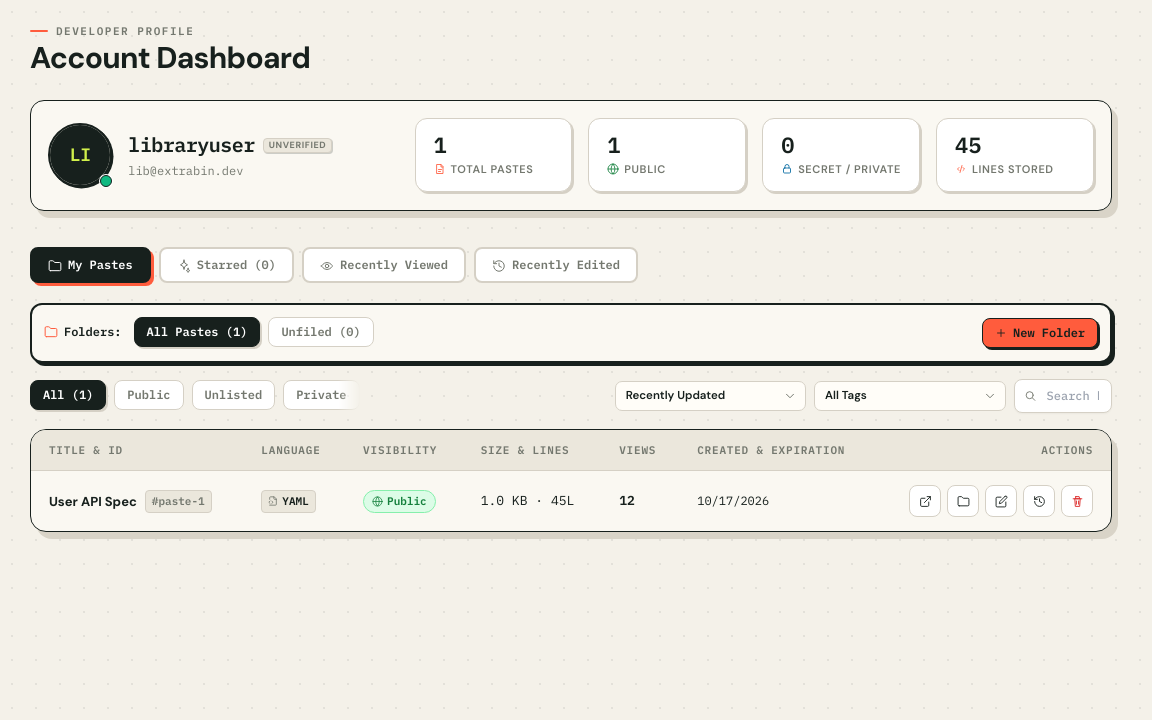
AccountPage library search, sort and tag filtering › Recently Edited tab loads and displays edited pastes
What coordinates should you click on to do the following:
click the button "Recently Edited"
I would click on:
 (556, 265)
Its box is [474,247,638,283].
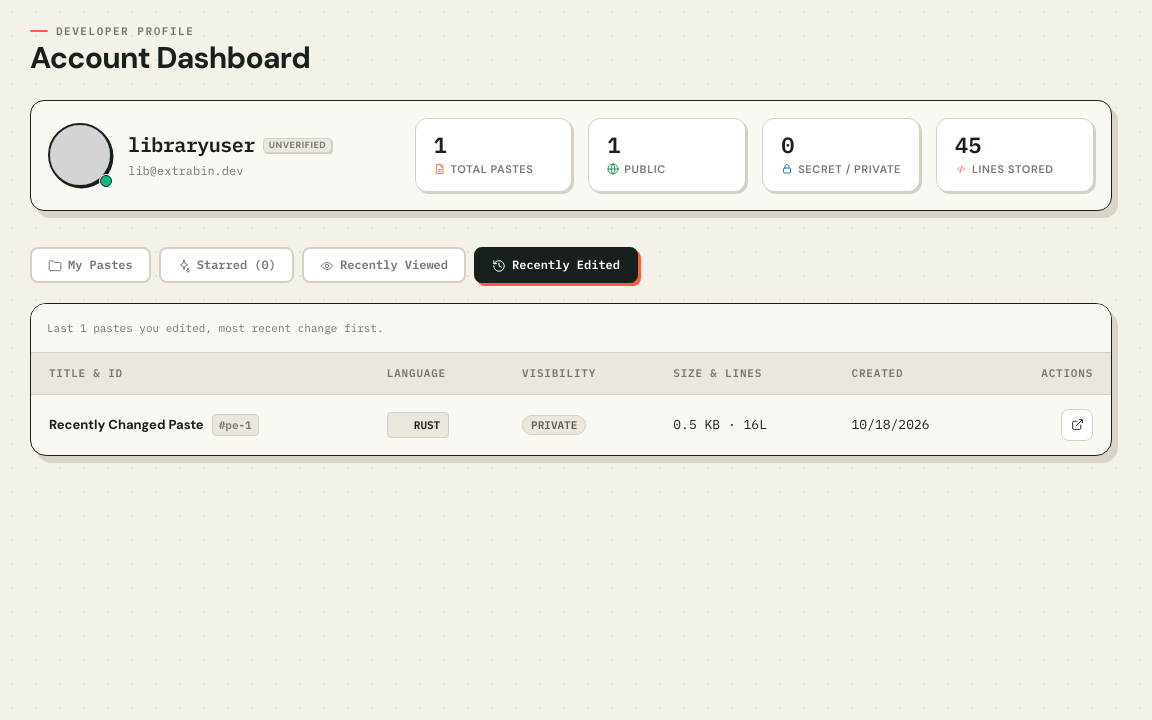
Check: the text "Recently Changed Paste" is shown, box [49,415,204,434]
